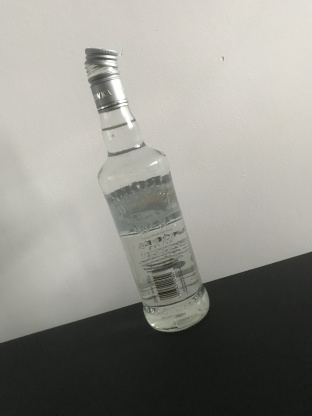nakretka: (82, 45, 129, 114)
